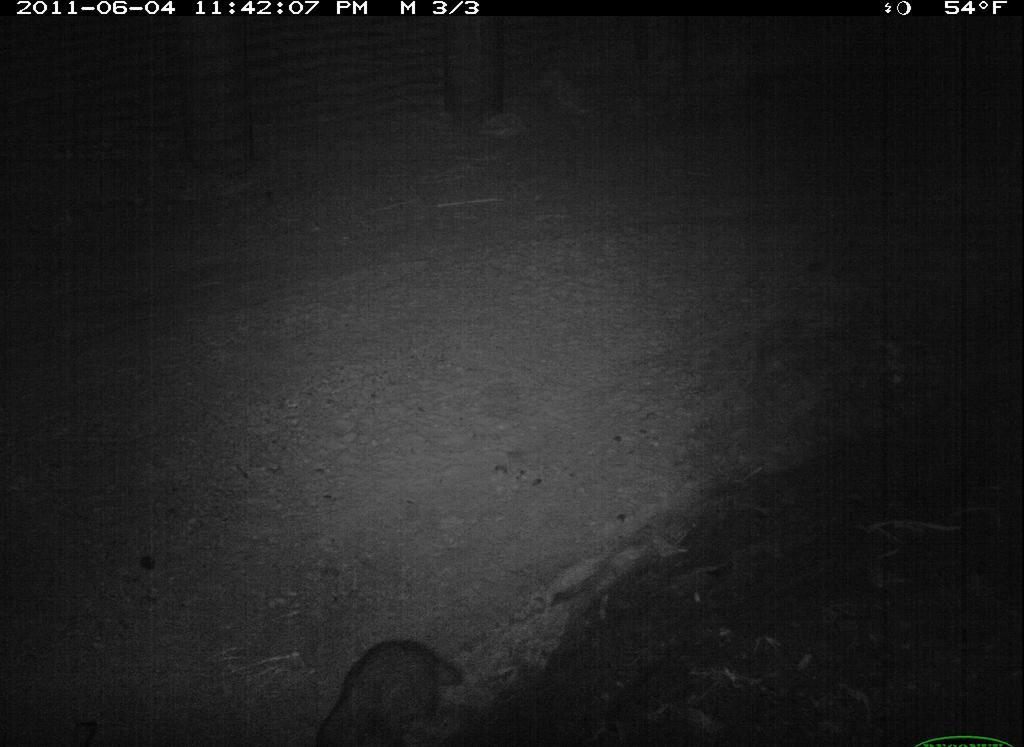raccoon: (312, 628, 470, 747)
